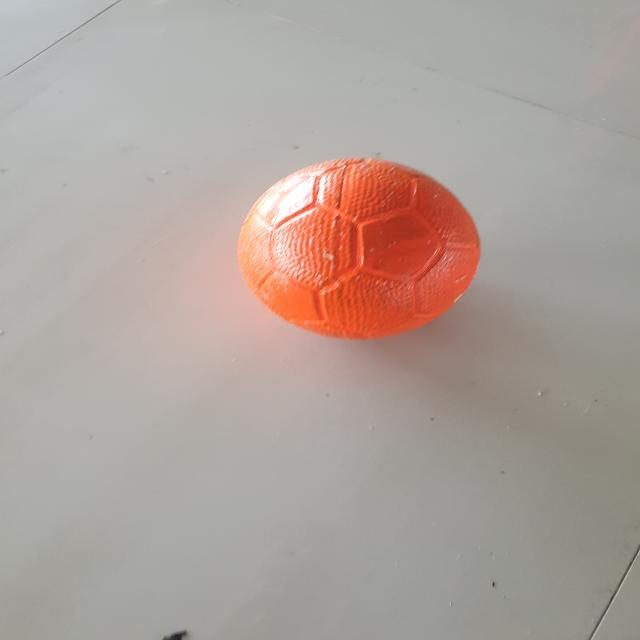bola: (180, 150, 532, 358)
